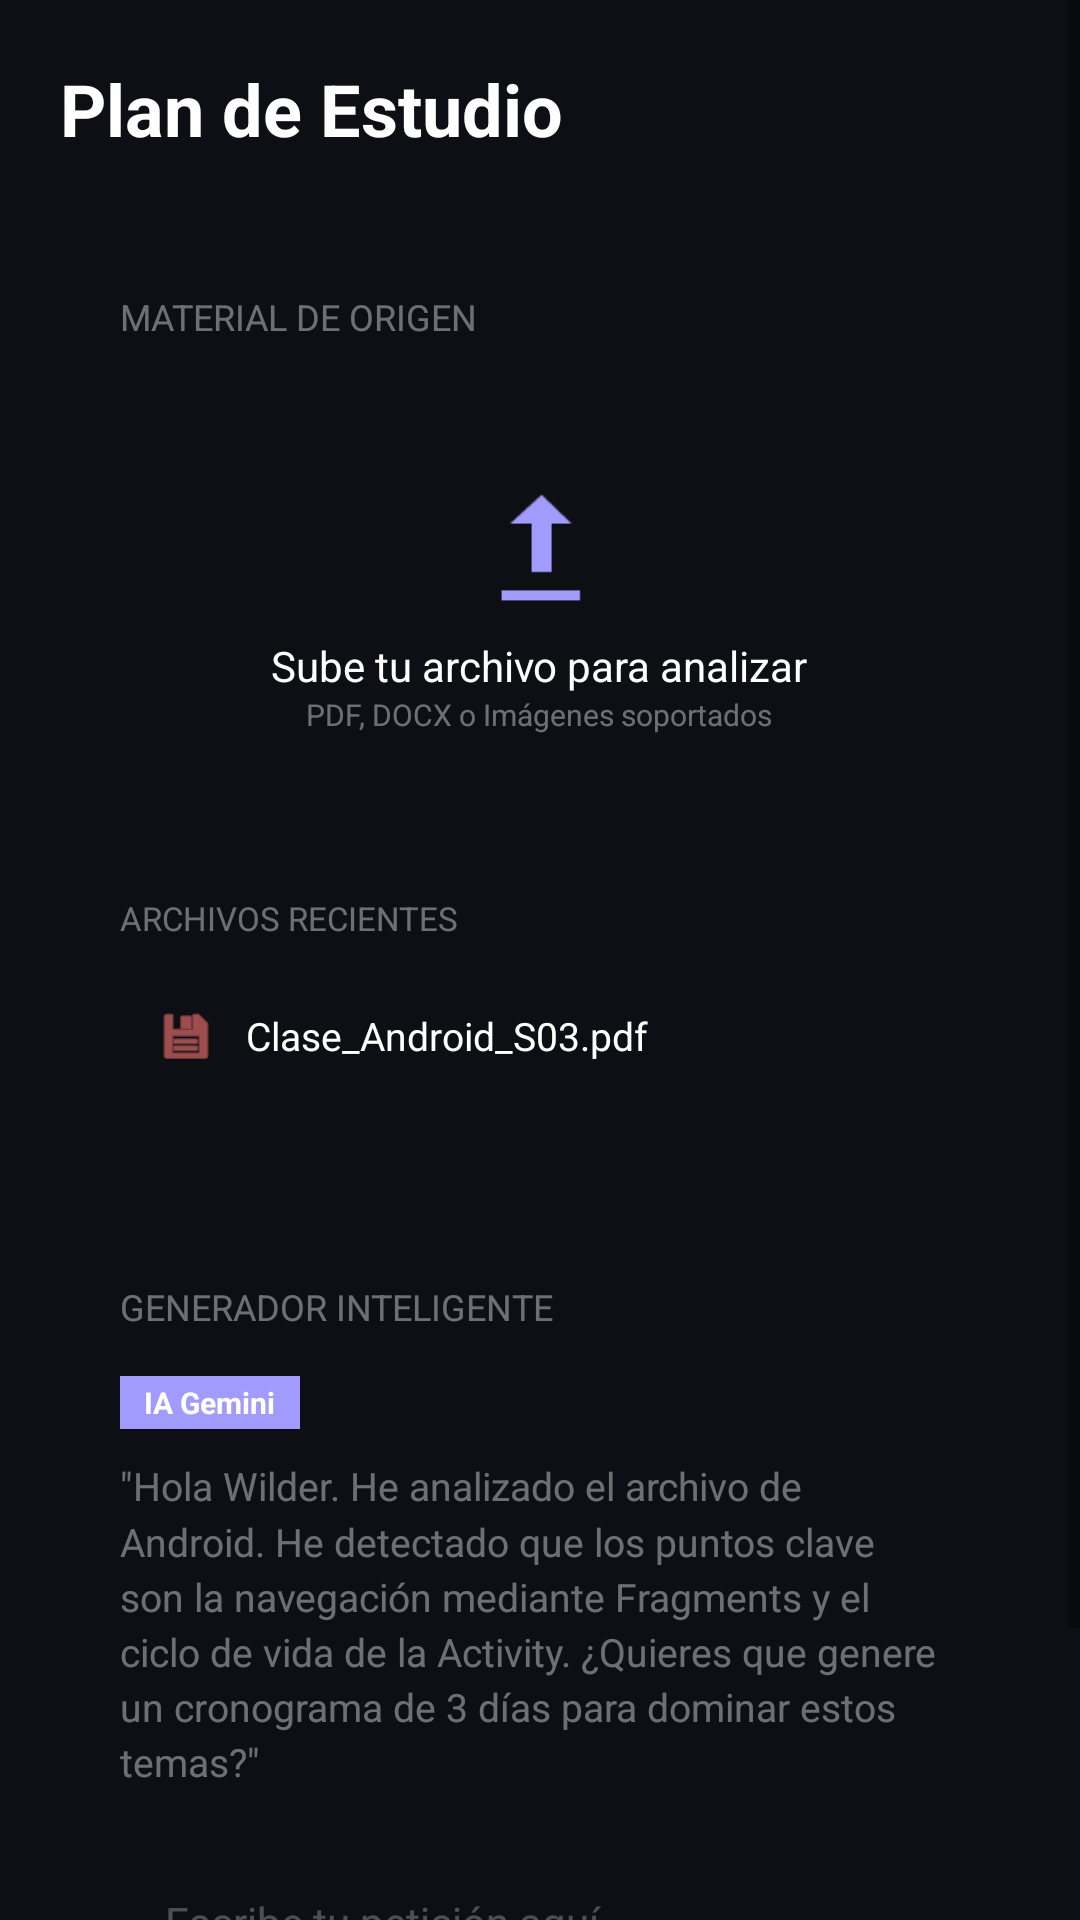

Locate icon controls on the screen. Image size 1080px×1920px, boxes as region(x1, y1, x2, y2).
save: region(163, 1013, 209, 1059)
upload: region(501, 495, 581, 601)
